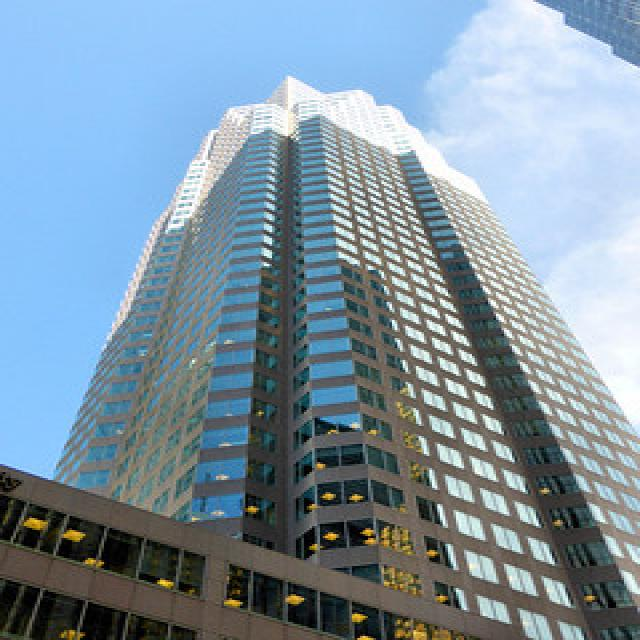Normal_building: (53, 73, 640, 633)
